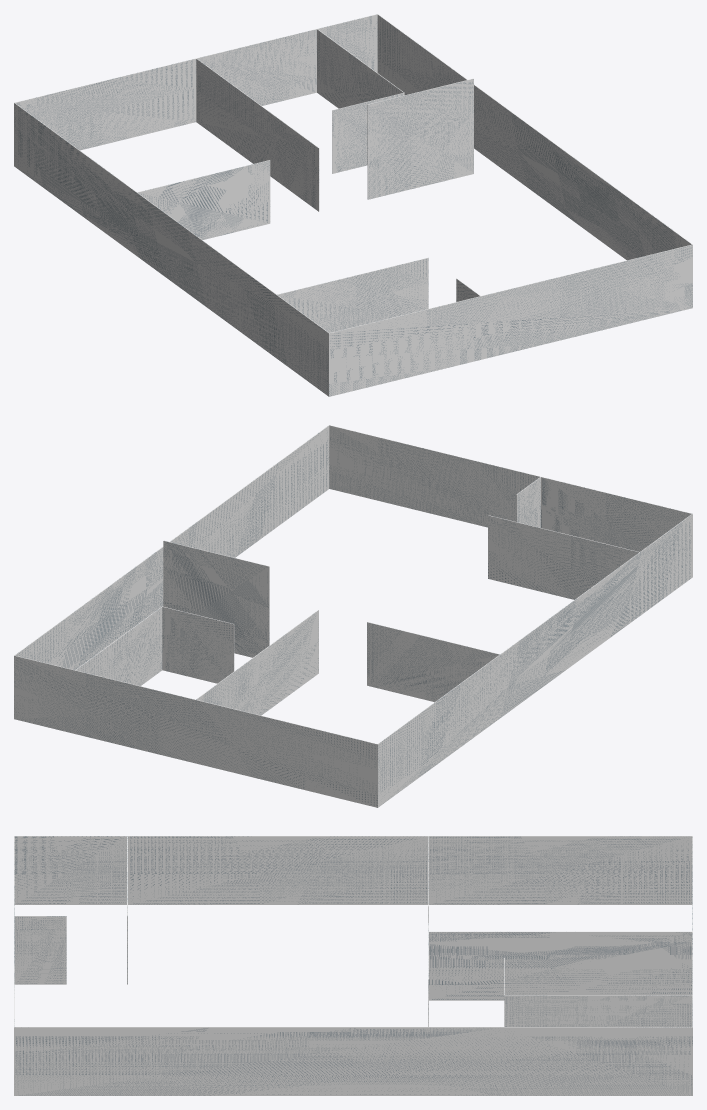
The model's file is walls.dae.
3 views of the same model, one above another, from view 1: azimuth 30°, elevation 25°; view 2: azimuth 150°, elevation 25°; view 3: azimuth 270°, elevation 25° (orthographic). The views are drawn at different scales.
Parts seen in each view (by area): view 1: SketchUp (×2); view 2: SketchUp (×2); view 3: SketchUp.
Boxes of the visible parts, x1,y1,x2,y2 form: SketchUp (×2): (14,14,692,396); SketchUp (×2): (14,425,692,807); SketchUp: (14,836,692,1095).
Size of the model in its own units: 236 by 354 by 59.06.
